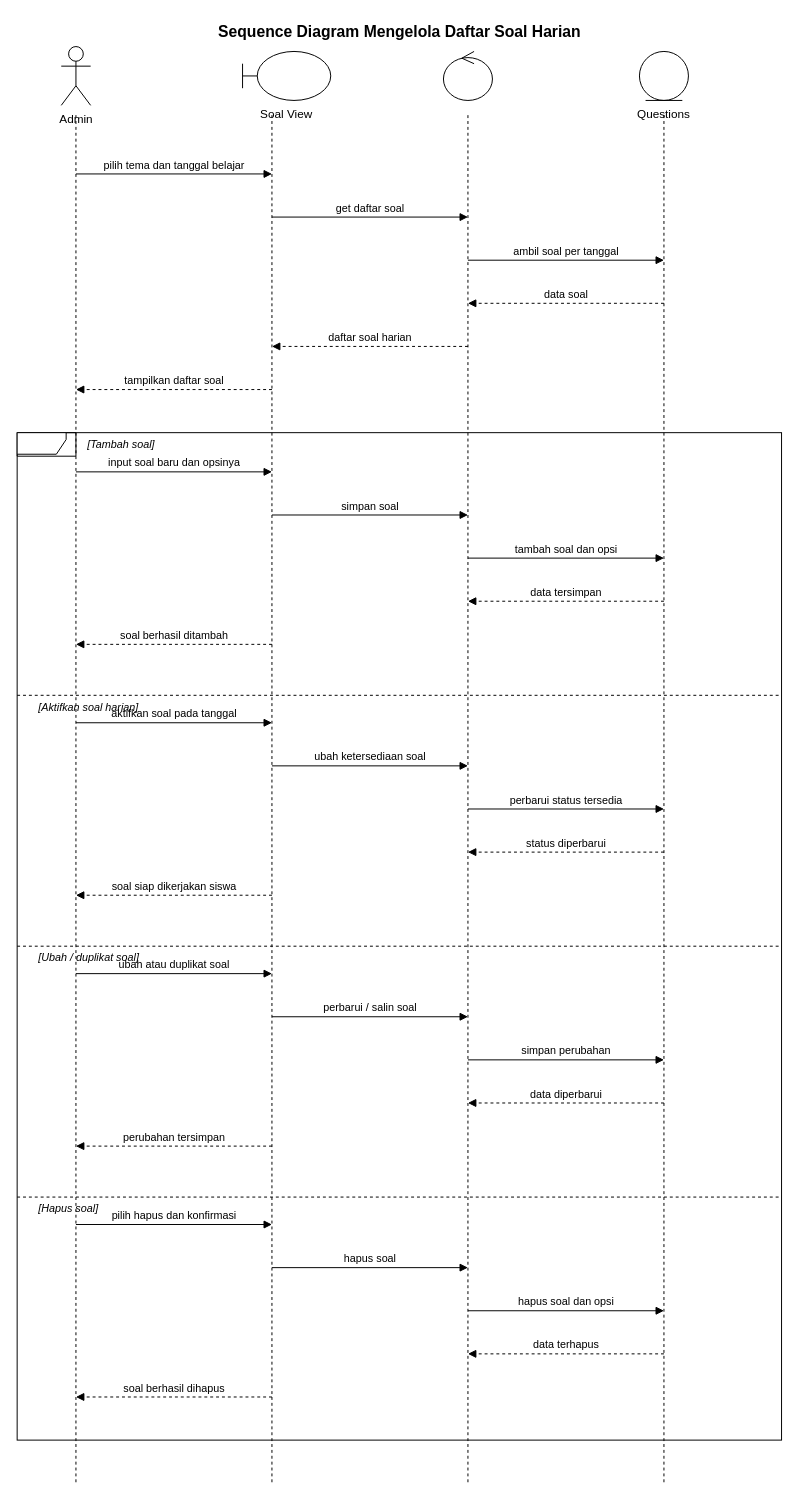
This 800x1503 diagram has some shape labels left out. Here are the shapes that lost their labels. From the top down, the centre of each, then its label:
(467,75): Question Controller
(46,444): alt
